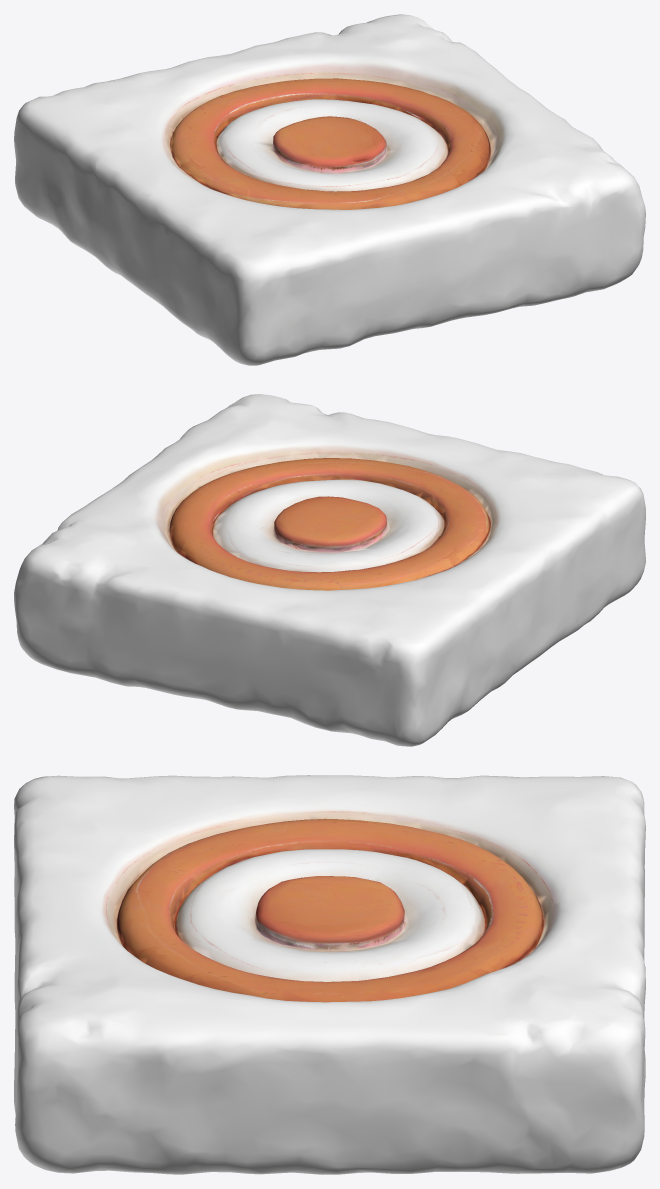
File: Create_a_ground_tile__0523110431_texture.glb
3 renders of one model, top to bottom at view 1: azimuth 30°, elevation 25°; view 2: azimuth 150°, elevation 25°; view 3: azimuth 270°, elevation 25°, orthographic. The views are drawn at different scales.
Size of the model in its own units: 2 by 0.5661 by 2.
1 material, 1 textured.
